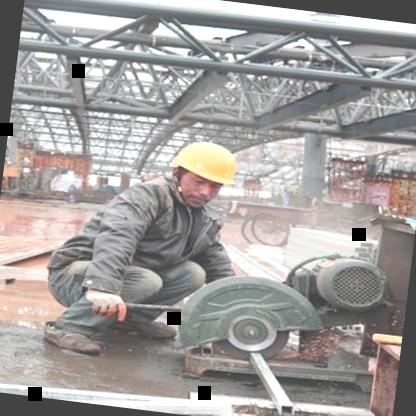helmet: (162, 133, 246, 209)
